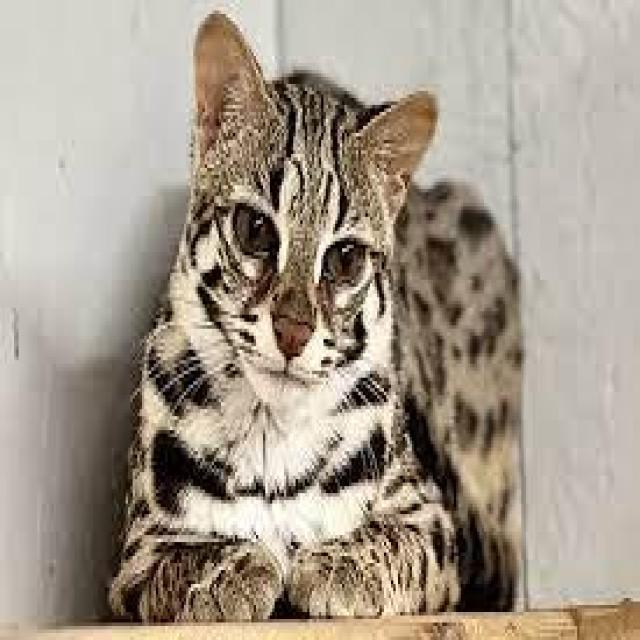leopard: (165, 29, 408, 546)
